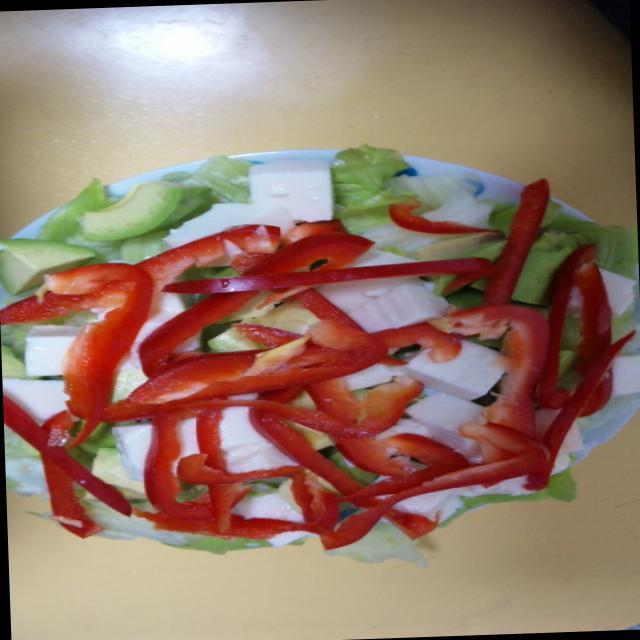Rice: (0, 139, 640, 579)
